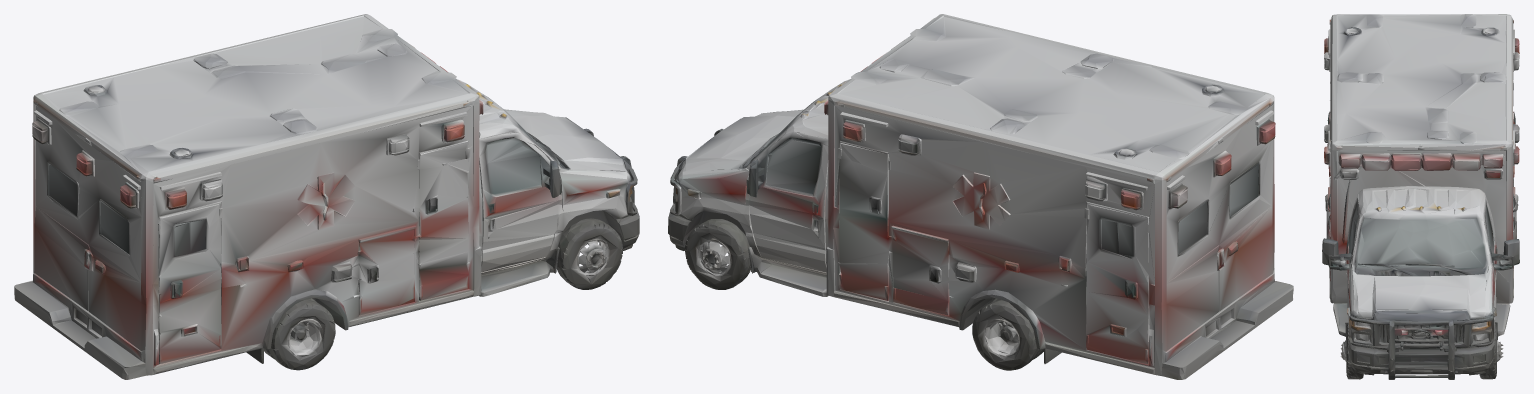
The model's file is ambulance_b.glb.
The picture shows the model from 3 angles, left to right: view 1: azimuth 30°, elevation 25°; view 2: azimuth 150°, elevation 25°; view 3: azimuth 270°, elevation 25°; orthographic projection. The views are drawn at different scales.
Visible parts, largest first — view 1: tripo_node_2a843610-0d3a-4832-96e0-158956d6f740; view 2: tripo_node_2a843610-0d3a-4832-96e0-158956d6f740; view 3: tripo_node_2a843610-0d3a-4832-96e0-158956d6f740.
Boxes of the visible parts, bbox=[...] form: tripo_node_2a843610-0d3a-4832-96e0-158956d6f740: bbox=[14, 14, 639, 379]; tripo_node_2a843610-0d3a-4832-96e0-158956d6f740: bbox=[668, 14, 1293, 379]; tripo_node_2a843610-0d3a-4832-96e0-158956d6f740: bbox=[1322, 14, 1519, 379].
Bounding box in the file's own units: 0.9769 × 0.402 × 0.3835.
